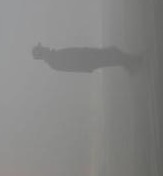person: (31, 40, 141, 75)
